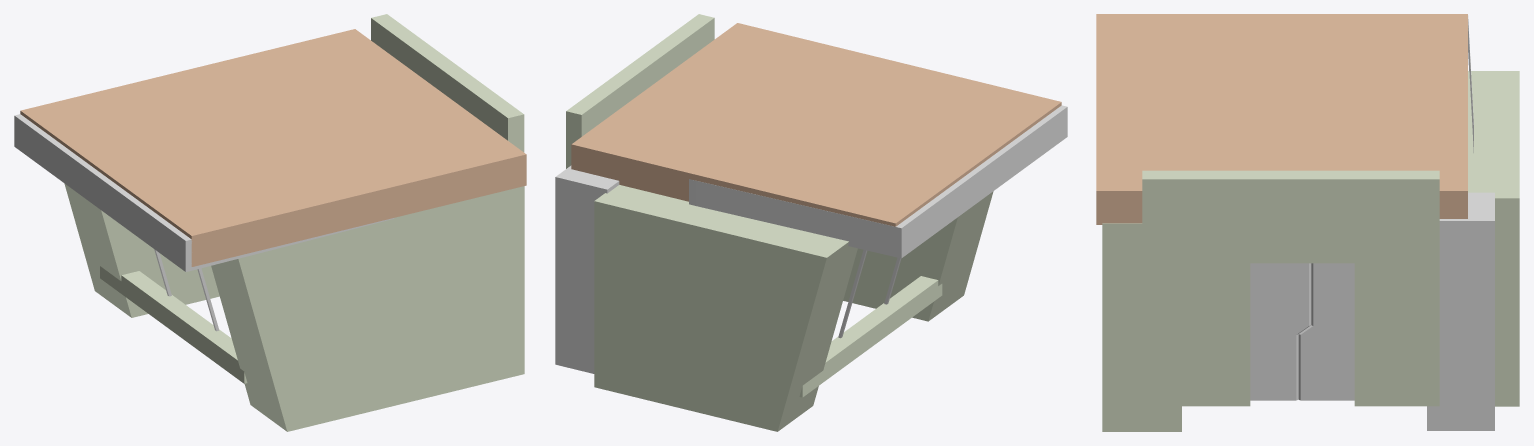
The model's file is pillar.fbx.
3 renders of one model, left to right at view 1: azimuth 30°, elevation 25°; view 2: azimuth 150°, elevation 25°; view 3: azimuth 270°, elevation 25°, orthographic. The views are drawn at different scales.
Parts seen in each view (by area): view 1: CEILING, Wall left, ceilingframe, WALL RIGHT, WALL BACK, list, panoramic Lists; view 2: CEILING, WALL RIGHT, ceilingframe, pillar, Wall left, WALL BACK, list, panoramic Lists; view 3: CEILING, WALL BACK, pillar, WALL RIGHT, Wall left, door_left, door_right.
Part boxes in pixels (<box>): CEILING: <box>20,29,526,266</box>; Wall left: <box>211,186,524,431</box>; ceilingframe: <box>14,114,394,271</box>; WALL RIGHT: <box>64,183,219,317</box>; WALL BACK: <box>371,14,524,152</box>; list: <box>100,266,247,383</box>; panoramic Lists: <box>154,249,219,331</box>; CEILING: <box>571,23,1061,226</box>; WALL RIGHT: <box>594,185,857,431</box>; ceilingframe: <box>689,105,1067,258</box>; pillar: <box>555,165,619,373</box>; Wall left: <box>843,191,993,321</box>; WALL BACK: <box>566,14,714,168</box>; list: <box>799,276,942,397</box>; panoramic Lists: <box>838,250,901,338</box>; CEILING: <box>1096,14,1467,224</box>; WALL BACK: <box>1142,170,1439,406</box>; pillar: <box>1427,192,1494,430</box>; WALL RIGHT: <box>1468,71,1519,406</box>; Wall left: <box>1102,223,1181,431</box>; door_left: <box>1250,263,1311,400</box>; door_right: <box>1298,263,1354,400</box>.
Bounding box in the file's own units: 7.11 × 4.57 × 6.69.
